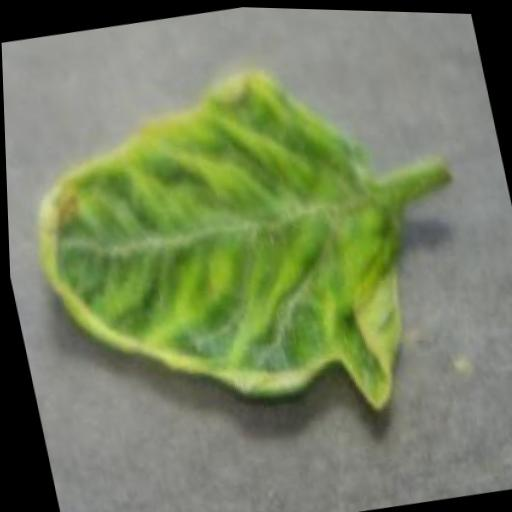Yellow Leaf Curl Virus: (5, 38, 441, 462)
